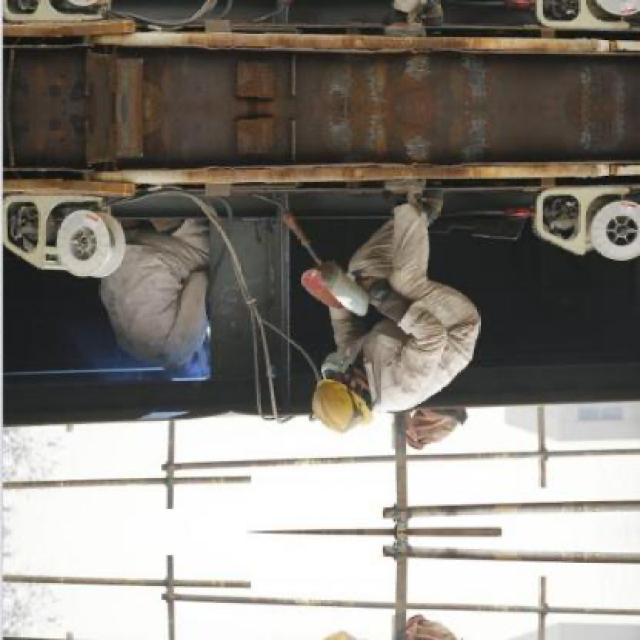con casco: (274, 322, 430, 456)
